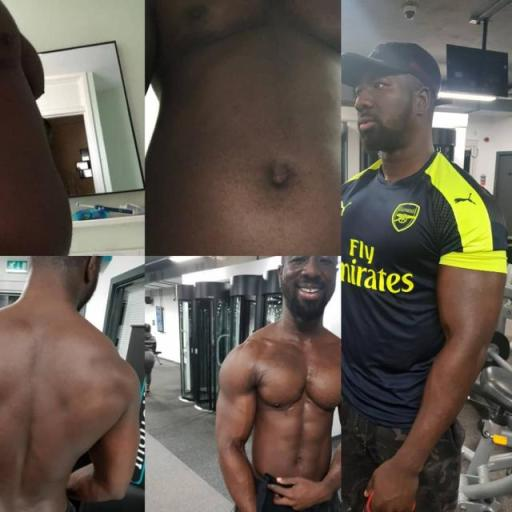Emirates: (336, 235, 416, 296)
